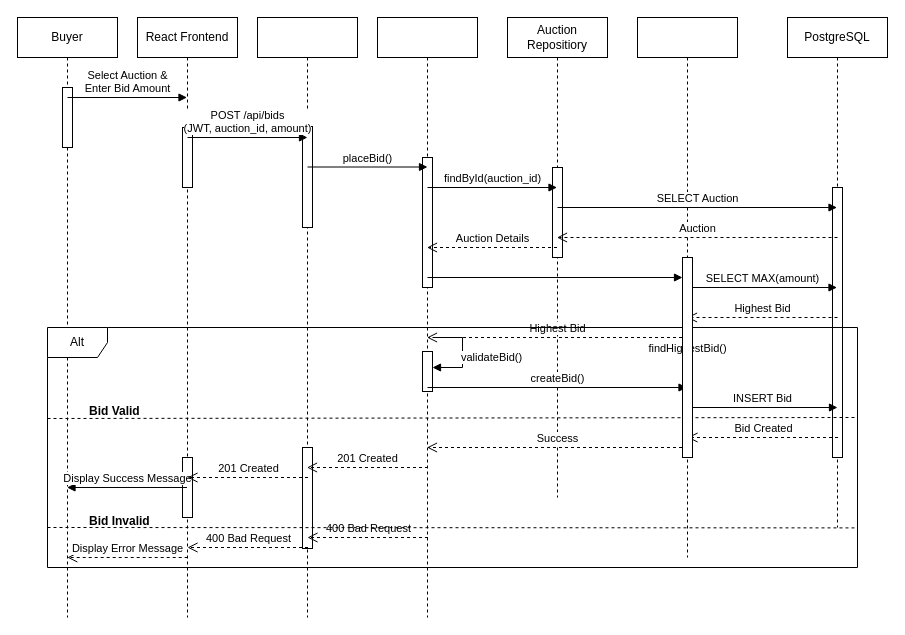
The diagram is 905 pixels wide and 635 high, and some of its shapes have lost their labels. Each missing label, with the box of its shape:
Bid Controller: (256, 16, 358, 618)
Bid Repository: (636, 16, 738, 558)
Bid Service: (376, 16, 478, 618)
